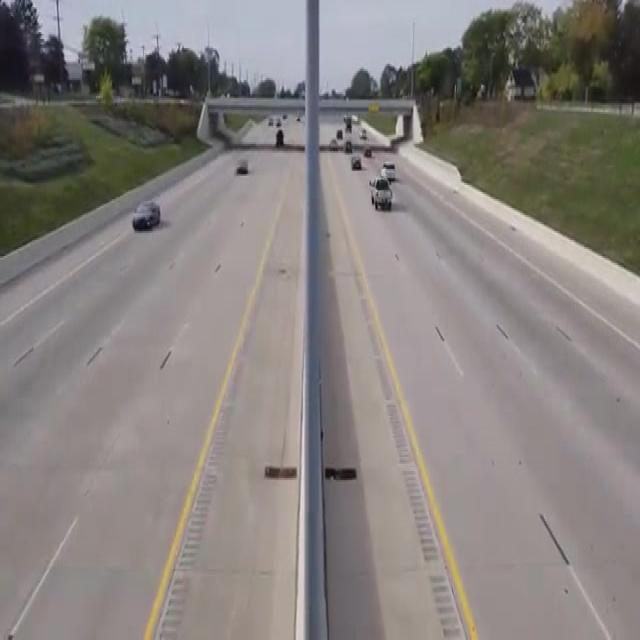car: (132, 193, 164, 244), (375, 152, 408, 184), (236, 152, 254, 203), (274, 130, 287, 156), (345, 153, 364, 170), (324, 134, 340, 150), (362, 143, 377, 160), (342, 139, 354, 155)
truck: (363, 170, 400, 227)
